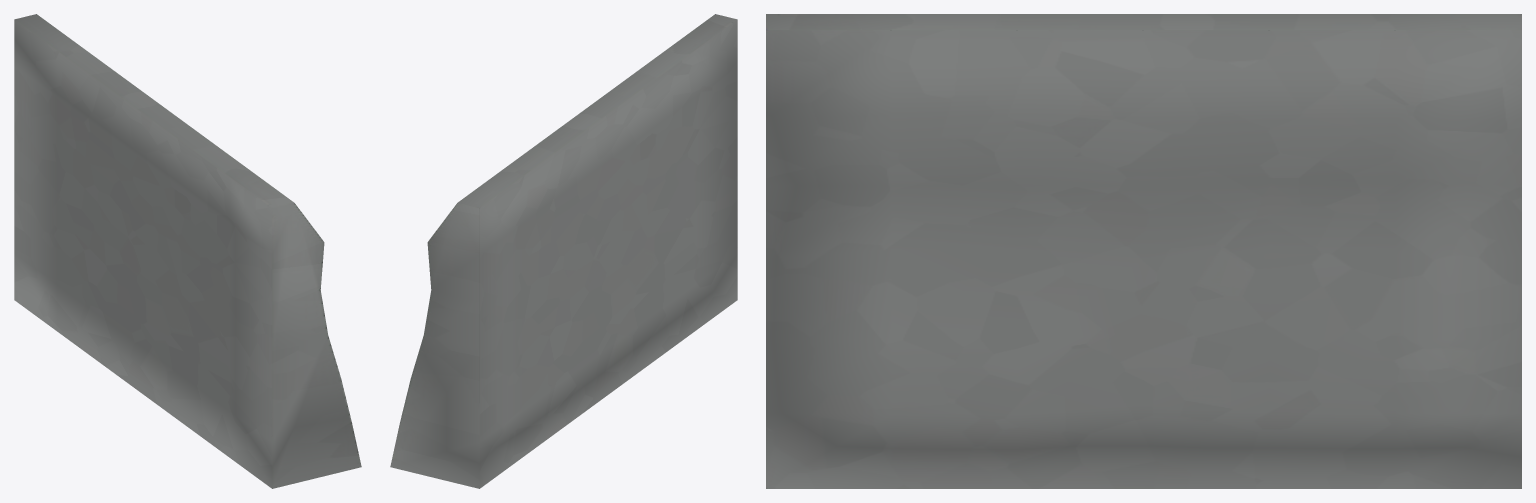
The model's file is wallLong.glb.
The picture shows the model from 3 angles, left to right: view 1: azimuth 30°, elevation 25°; view 2: azimuth 150°, elevation 25°; view 3: azimuth 270°, elevation 25°; orthographic projection. The views are drawn at different scales.
Parts seen in each view (by area): view 1: WallLong; view 2: WallLong; view 3: WallLong.
Boxes of the visible parts, box(x1,y1,x2,y2) form: WallLong: box(14, 14, 361, 488); WallLong: box(390, 14, 737, 488); WallLong: box(766, 14, 1521, 488).
Bounding box in the file's own units: 2 × 6 × 10.
1 material, 1 textured.
